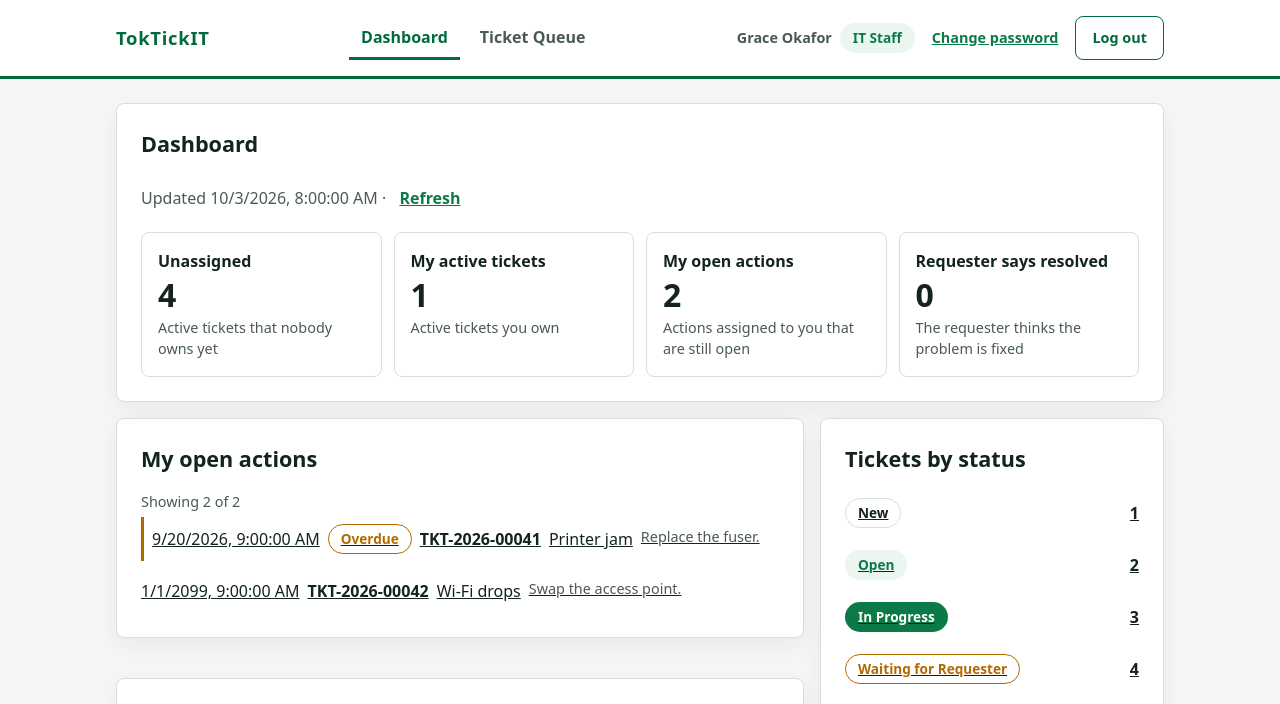
it: UI-05 the states › a failed refresh removes the old numbers rather than leaving them beside the alert
Check: the heading "Dashboard" is shown, box left=141, top=129, right=258, bottom=158
Check: the link with aria-label "Unassigned: 4 tickets" is shown, box left=141, top=232, right=382, bottom=377
Click the button "Refresh": coordinates (430, 198) left=390, top=176, right=470, bottom=220
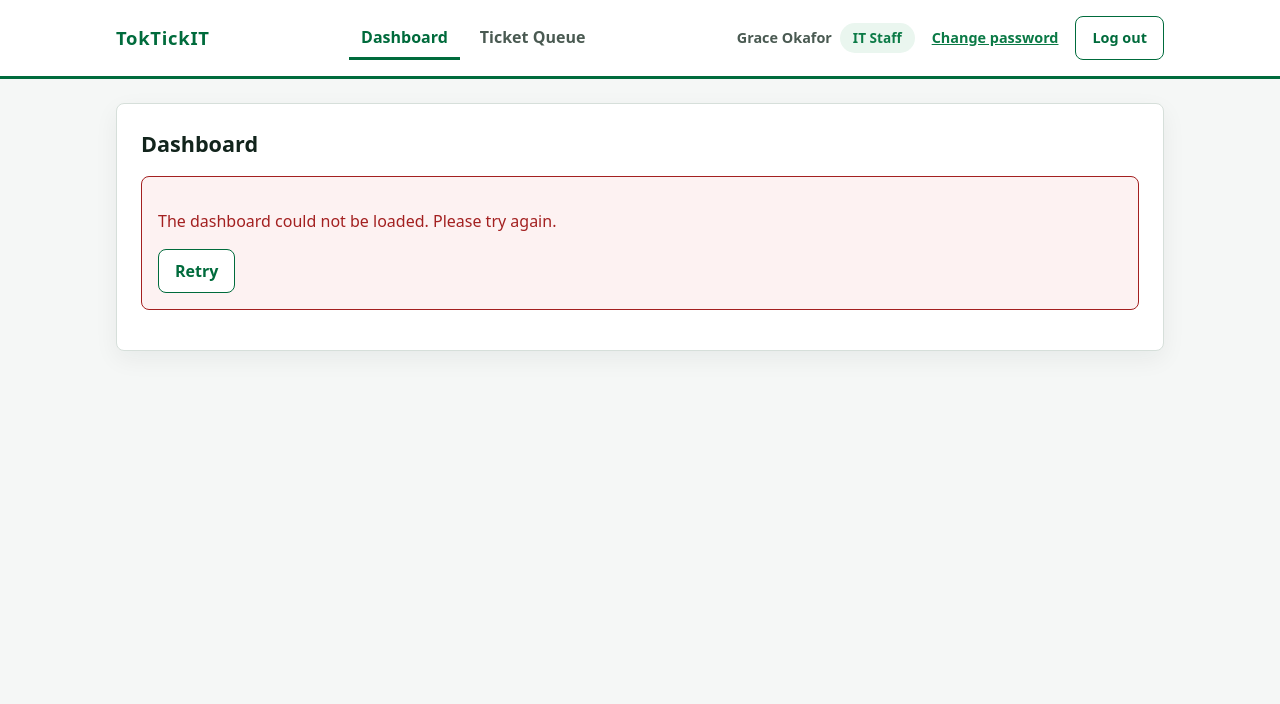
Check: the message "The dashboard could not be loaded. Please try again. Retry" is shown, box left=141, top=176, right=1139, bottom=310
Check: the link "Unassigned" is gone
Check: the text "Updated " is gone
